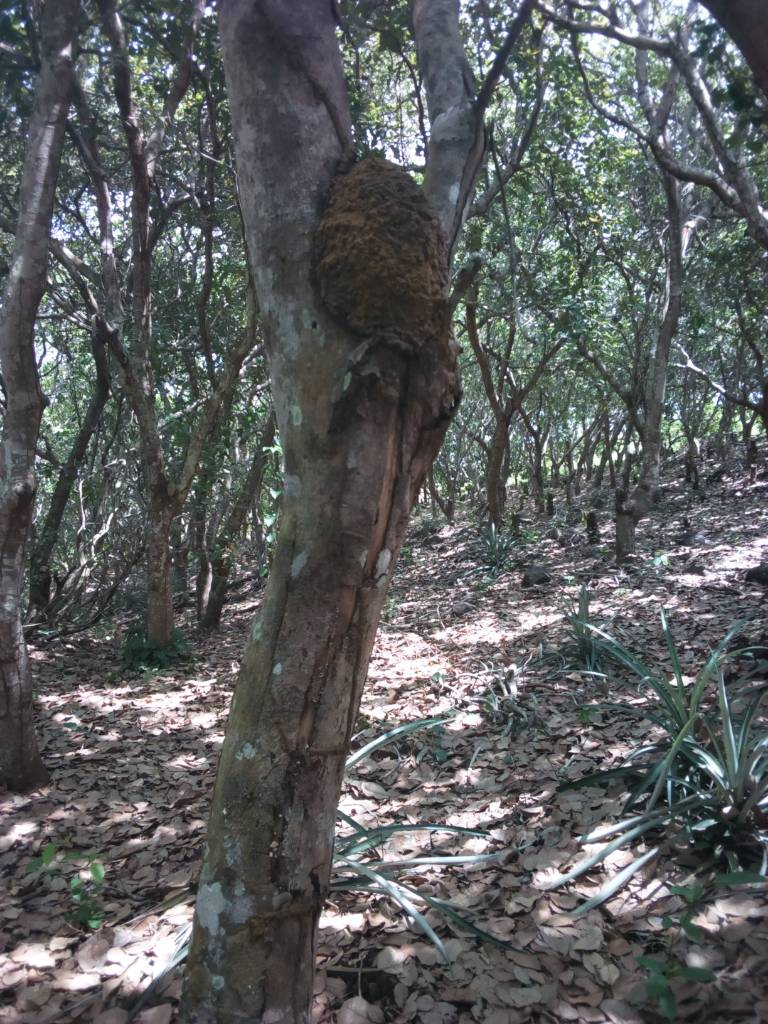Virose: (296, 148, 492, 335)
